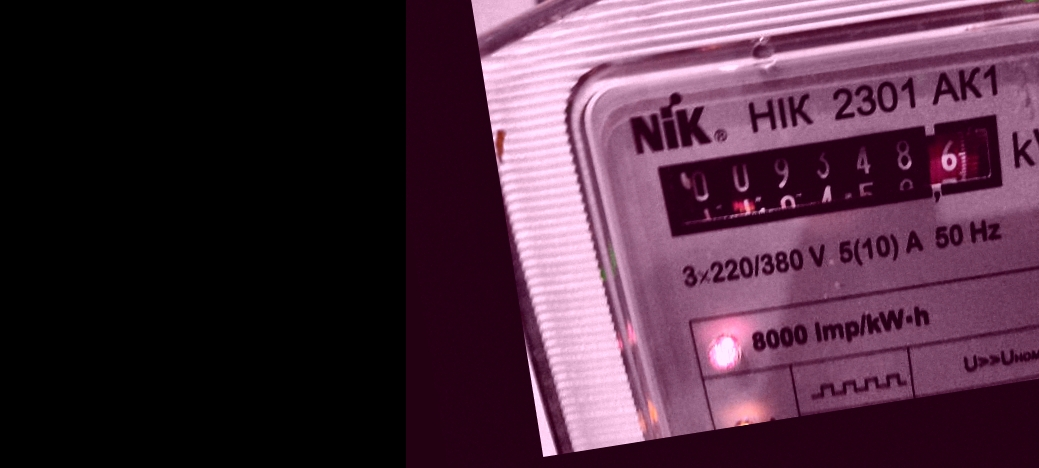0: (727, 157, 754, 196), (687, 166, 712, 203)
3: (809, 145, 835, 180)
4: (848, 139, 875, 179)
6: (936, 135, 963, 172)
8: (891, 135, 916, 171)
9: (770, 152, 793, 188)
screen: (632, 95, 1029, 256)
